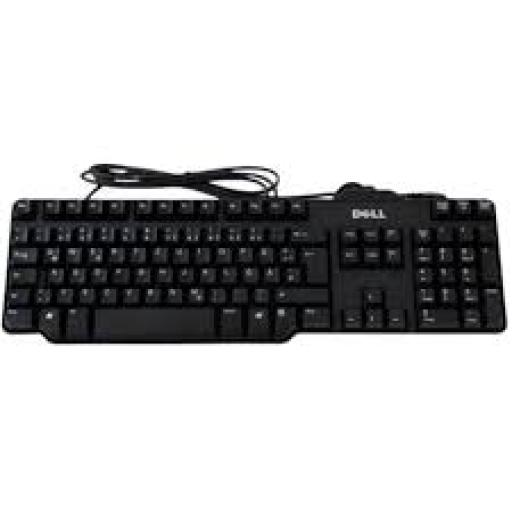KEYBOARD-2: (5, 184, 505, 341)
